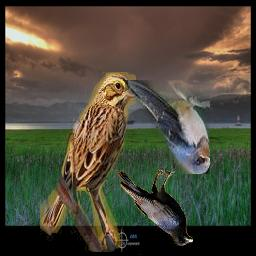Crow: (117, 170, 193, 246)
Sparrow: (40, 72, 136, 252)
Swallow: (126, 80, 211, 174)
